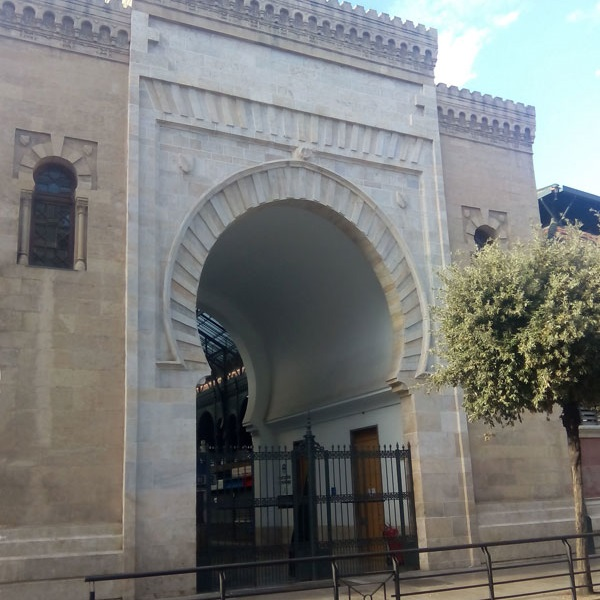arco-herradura: (176, 176, 426, 402), (23, 147, 89, 203)
dintel-adovelado: (144, 76, 431, 166)
